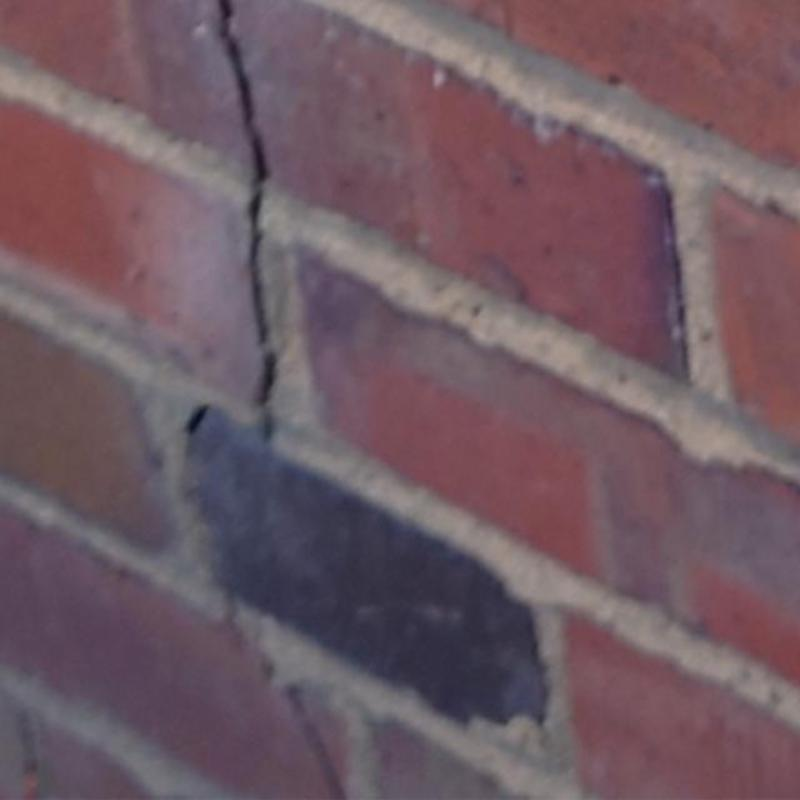pothole: (217, 0, 277, 438), (231, 600, 345, 800), (186, 407, 209, 433)
